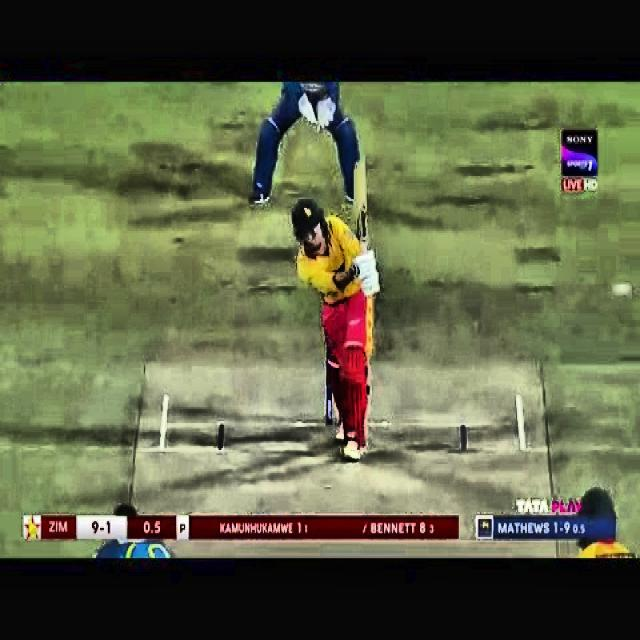Left-stump: (326, 367, 331, 424)
